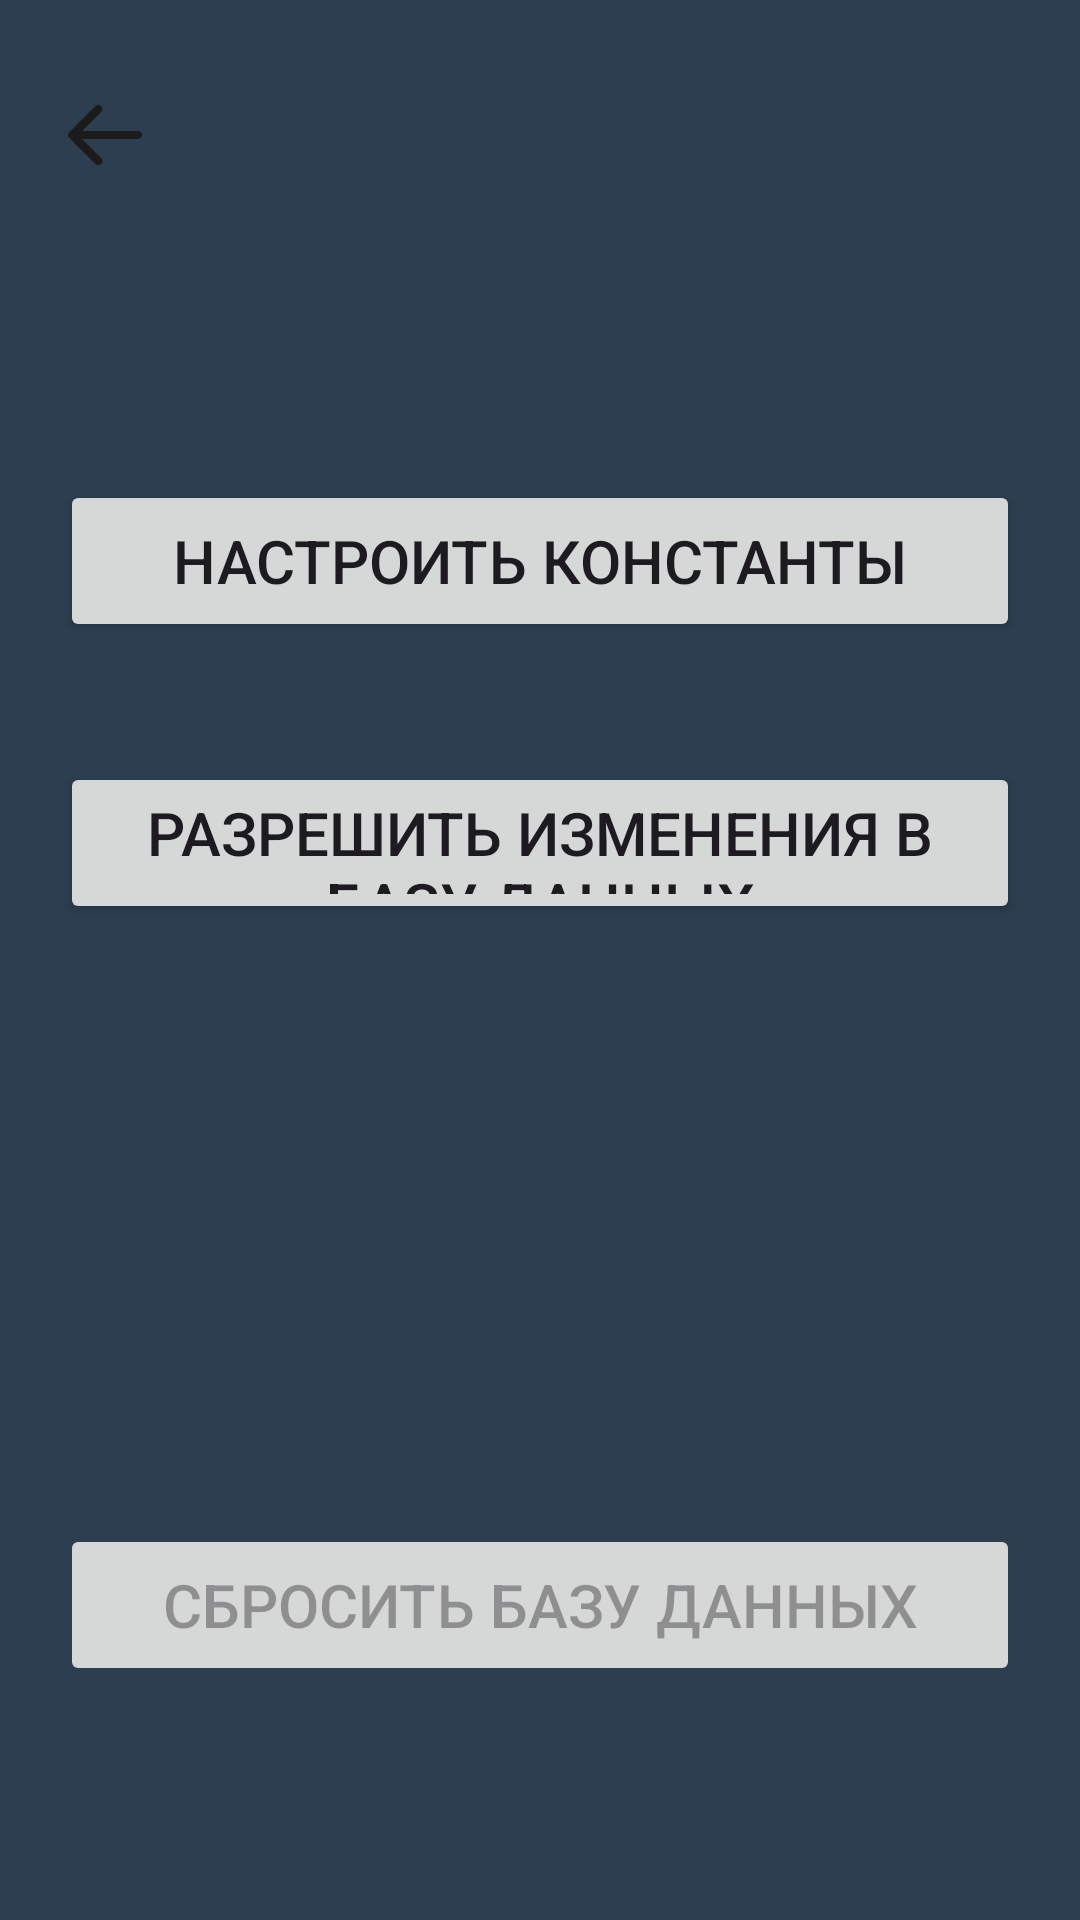

Named icons in this screenshot (1080*1920) and their centers, (x,y):
navbar left: (105,135)
